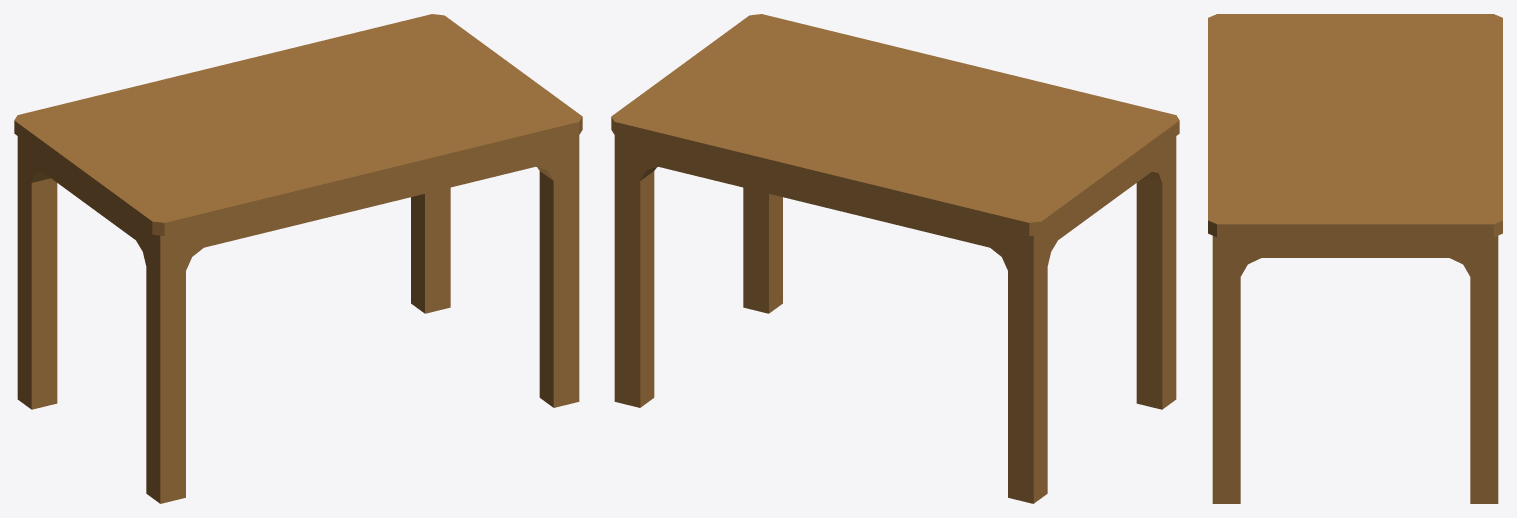
File: table-dining-medium.fbx
3 renders of one model, left to right at view 1: azimuth 30°, elevation 25°; view 2: azimuth 150°, elevation 25°; view 3: azimuth 270°, elevation 25°, orthographic.
Visible parts, largest first — view 1: table-dining-medium; view 2: table-dining-medium; view 3: table-dining-medium.
Boxes of the visible parts, <box> form: table-dining-medium: <box>14,14,582,503</box>; table-dining-medium: <box>611,14,1179,503</box>; table-dining-medium: <box>1208,14,1502,503</box>.
Bounding box in the file's own units: 1.2 × 0.7518 × 0.7112.
